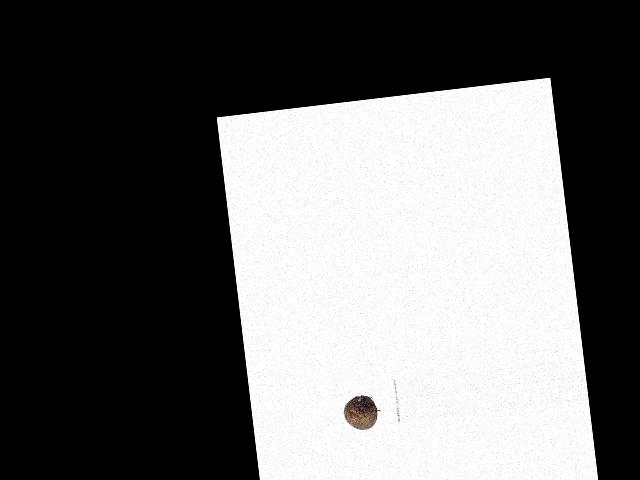beet: (342, 394, 379, 432)
